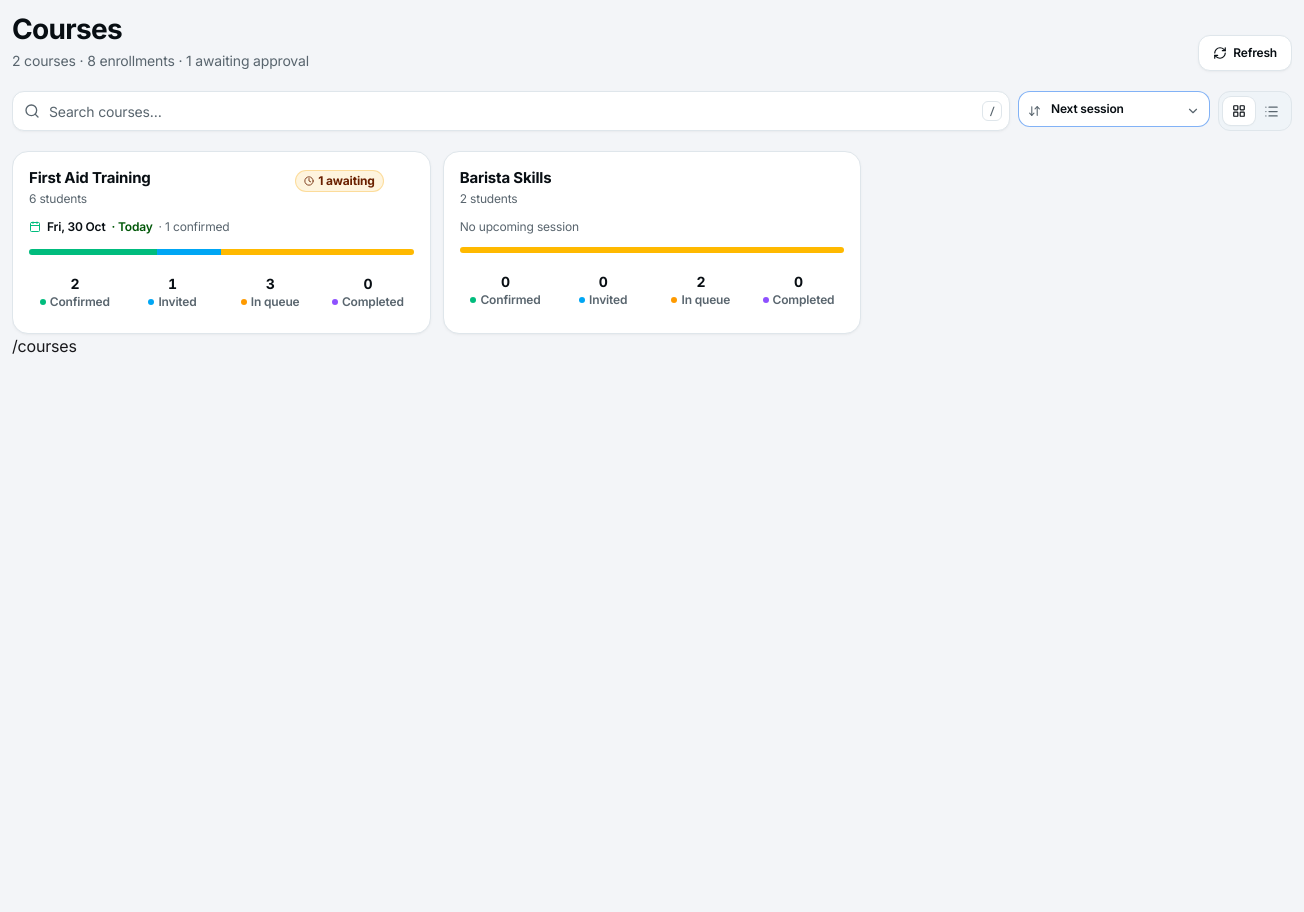
ViewerCourses › catalog › opens the roster pre-filtered when a status count is clicked
What coordinates should you click on to do the following:
click the button titled "Show in queue students"
I would click on:
 (270, 292)
Its box is top-left (224, 267), bottom-right (316, 317).
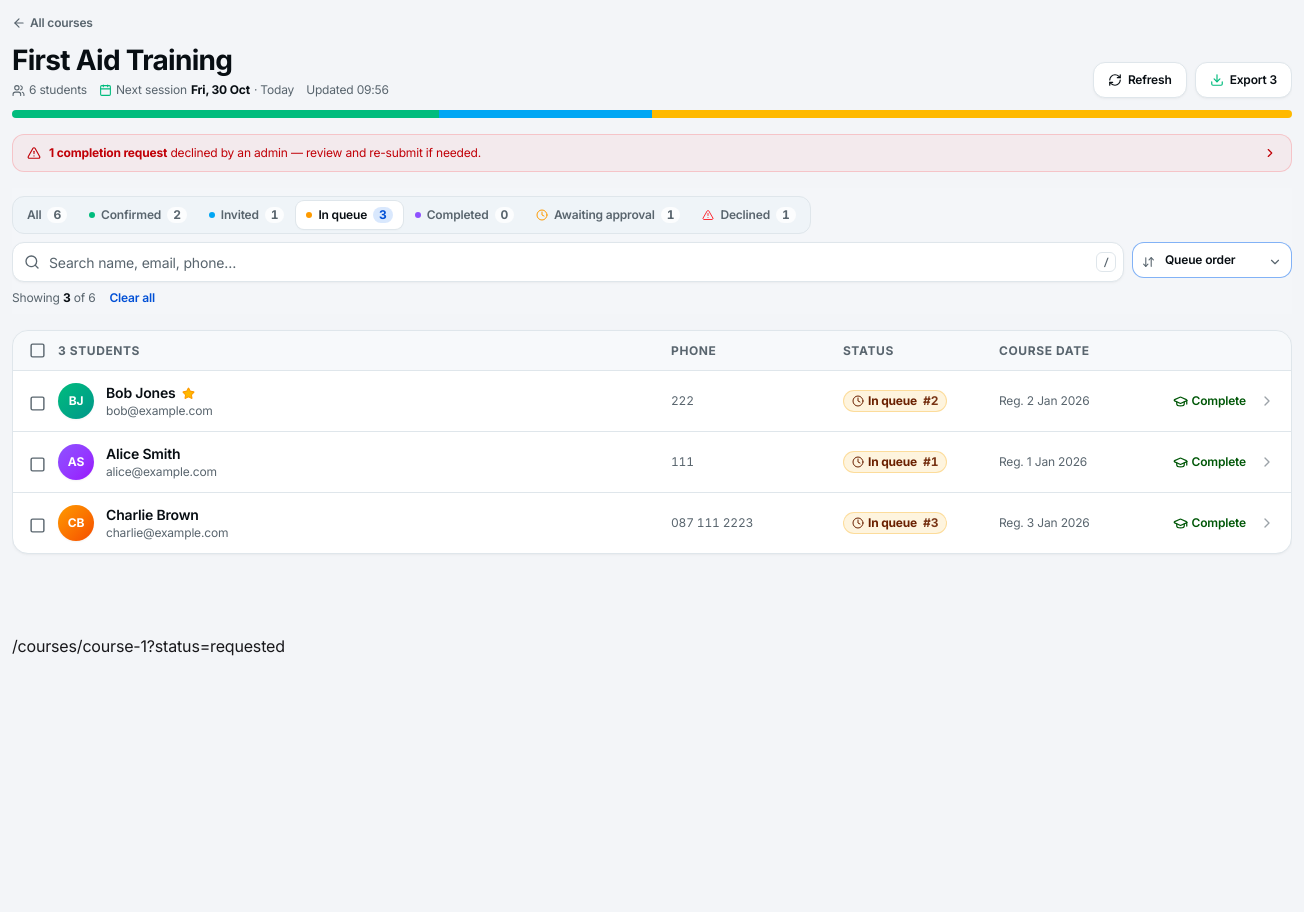
Expected: the text with test id "location" reads "/courses/course-1?status=requested", top-left (12, 636), bottom-right (285, 656)
